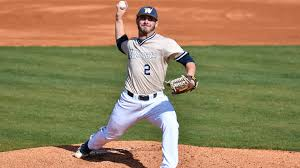baseball: (116, 1, 128, 10)
baseball player: (74, 1, 200, 166)
